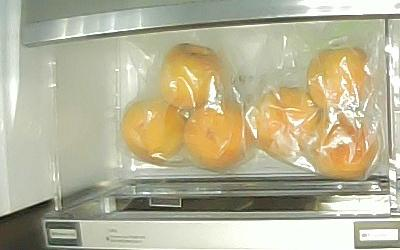peach_vinyl: (254, 87, 322, 158), (159, 42, 226, 111), (184, 101, 251, 170), (312, 111, 379, 179), (119, 98, 186, 163), (306, 47, 375, 110)
